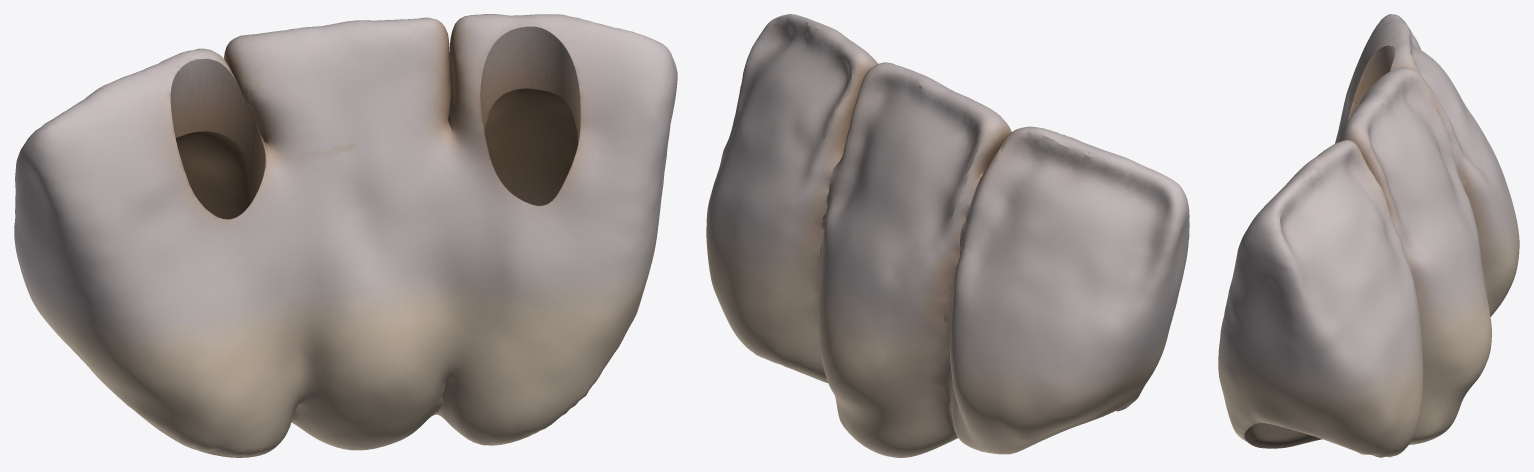
Rendered from crown.glb.
3 renders of one model, left to right at view 1: azimuth 30°, elevation 25°; view 2: azimuth 150°, elevation 25°; view 3: azimuth 270°, elevation 25°, orthographic. The views are drawn at different scales.
Parts seen in each view (by area): view 1: Crown_cutback; view 2: Crown_cutback; view 3: Crown_cutback.
Part boxes in pixels (left/top/right/bottom): Crown_cutback: left=14, top=14, right=677, bottom=457; Crown_cutback: left=706, top=14, right=1189, bottom=457; Crown_cutback: left=1218, top=14, right=1519, bottom=457.
Bounding box in the file's own units: 17.08 × 11.68 × 9.52.
Materials: 1 (1 with a texture image).
